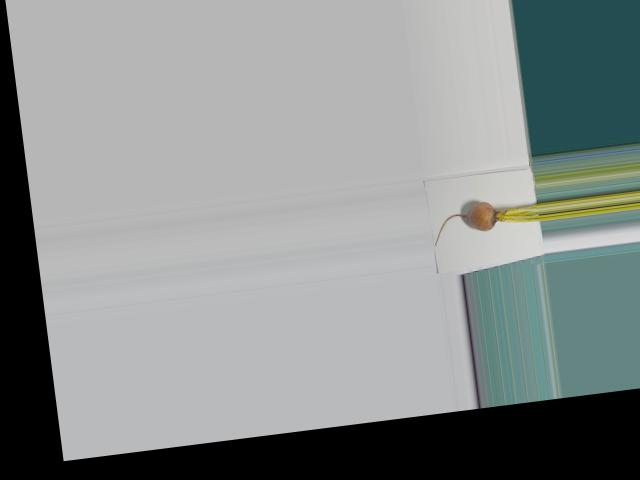beet: (430, 194, 541, 245)
